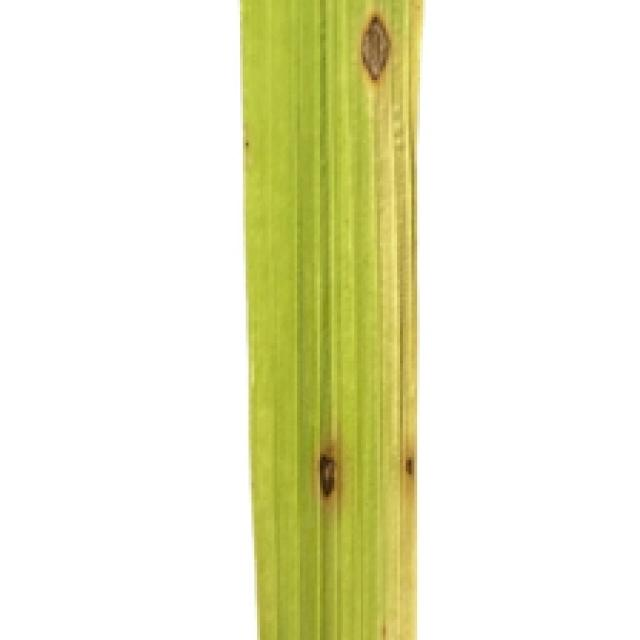Rice___Rice_Blast: (240, 0, 423, 637)
